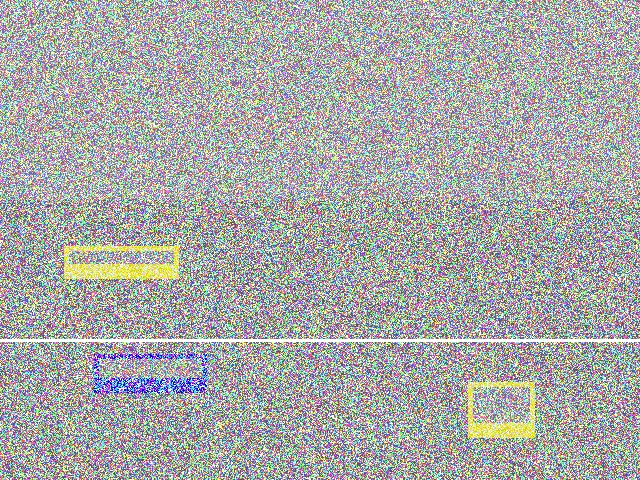car: (22, 168, 147, 220)
